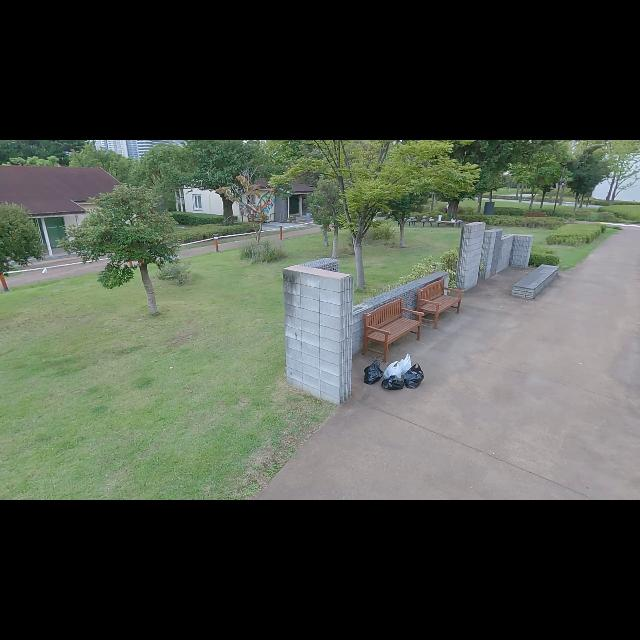trash: (392, 352, 418, 380), (379, 360, 406, 386), (402, 362, 426, 390), (363, 358, 383, 382), (381, 373, 404, 392)
